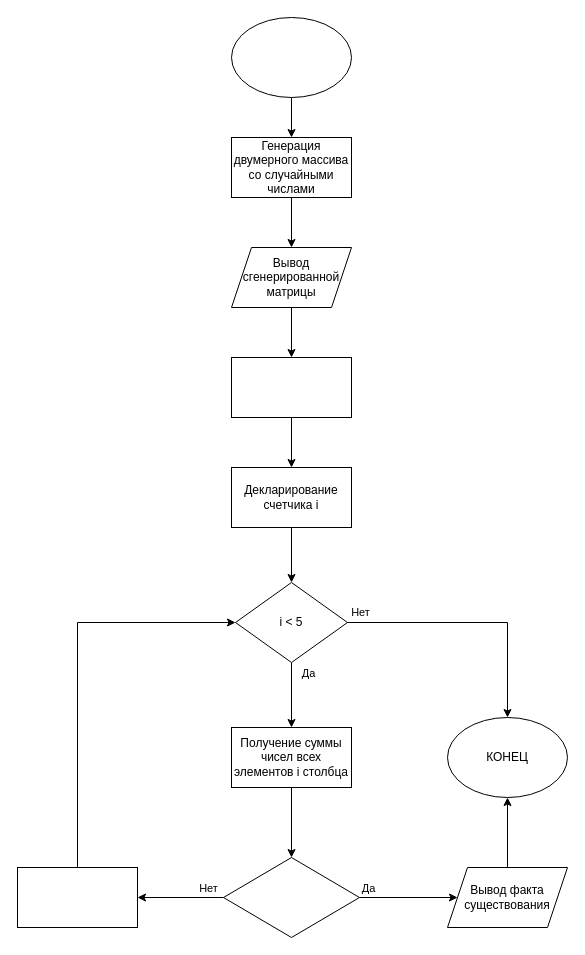
The diagram is 585 pixels wide and 955 high, and some of its shapes have lost their labels. Each missing label, with the centre of its shape:
Декларирование флага is_exist: the point at 291,387
Инкрементация i: the point at 77,897
СТАРТ: the point at 291,57
Сумма чисел i столбца = 4: the point at 291,897
